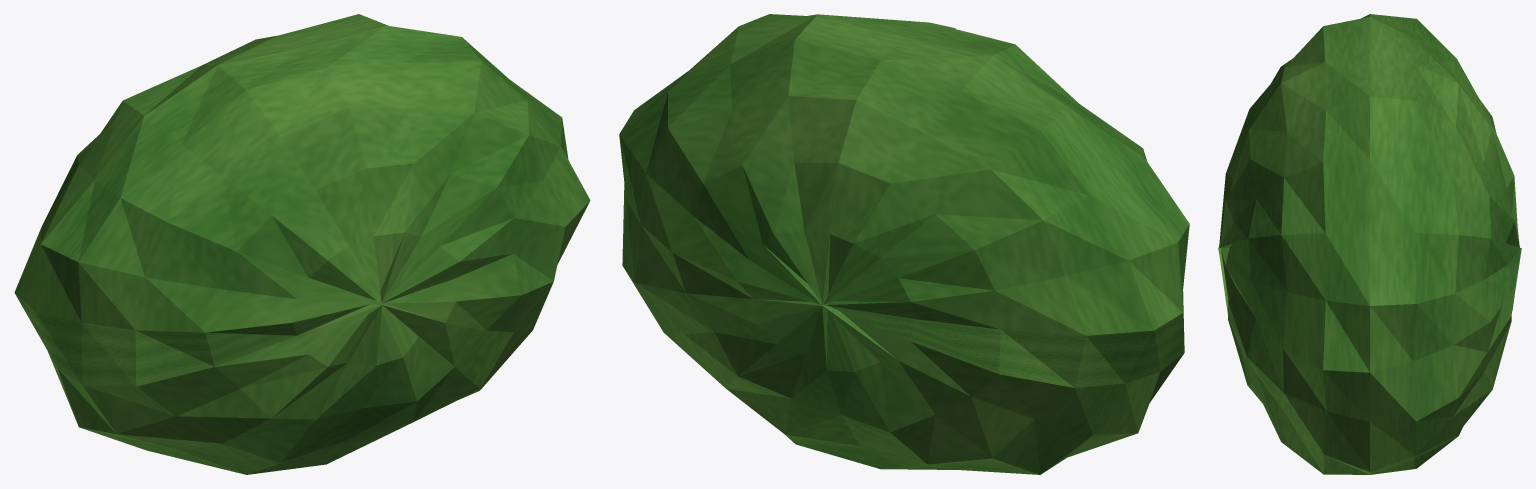
File: SM_ShTurfMound.obj
3 renders of one model, left to right at view 1: azimuth 30°, elevation 25°; view 2: azimuth 150°, elevation 25°; view 3: azimuth 270°, elevation 25°, orthographic. The views are drawn at different scales.
Parts seen in each view (by area): view 1: SM_ShTurfMound; view 2: SM_ShTurfMound; view 3: SM_ShTurfMound.
Part boxes in pixels (x1,y1,x2,y2): SM_ShTurfMound: [14, 14, 590, 474]; SM_ShTurfMound: [619, 14, 1189, 474]; SM_ShTurfMound: [1218, 14, 1521, 474].
Bounding box in the file's own units: 141 × 105 × 72.76.
1 material, 1 textured.
